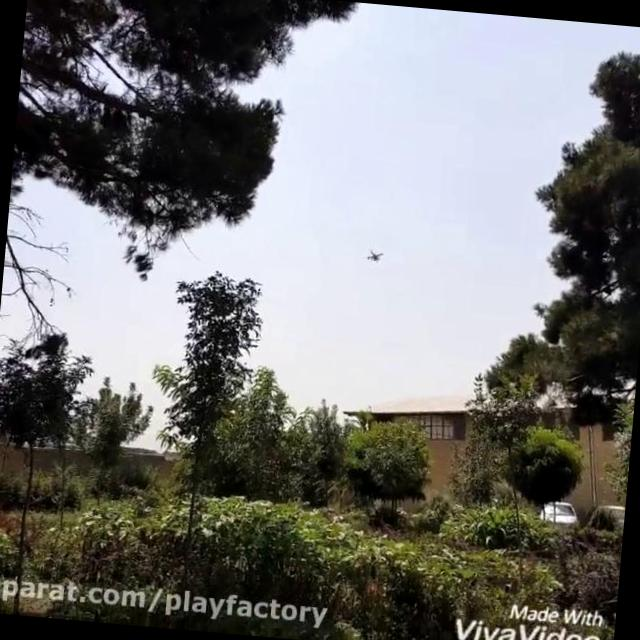drone: (362, 242, 388, 267)
